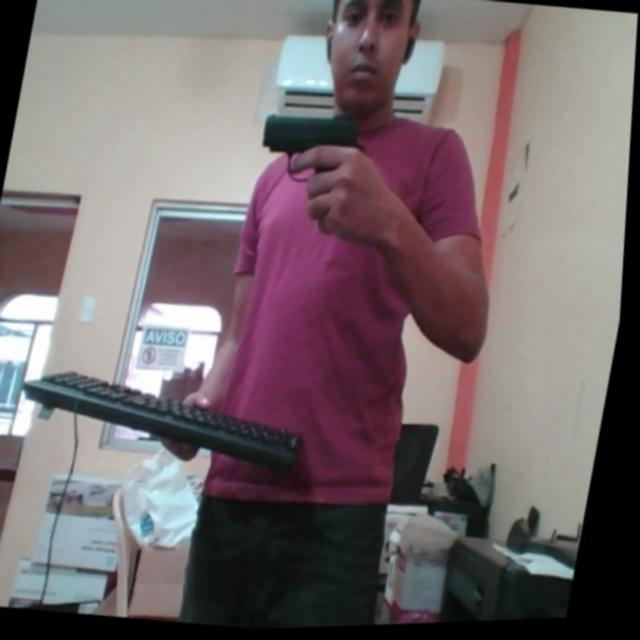weapon: (248, 102, 378, 206)
